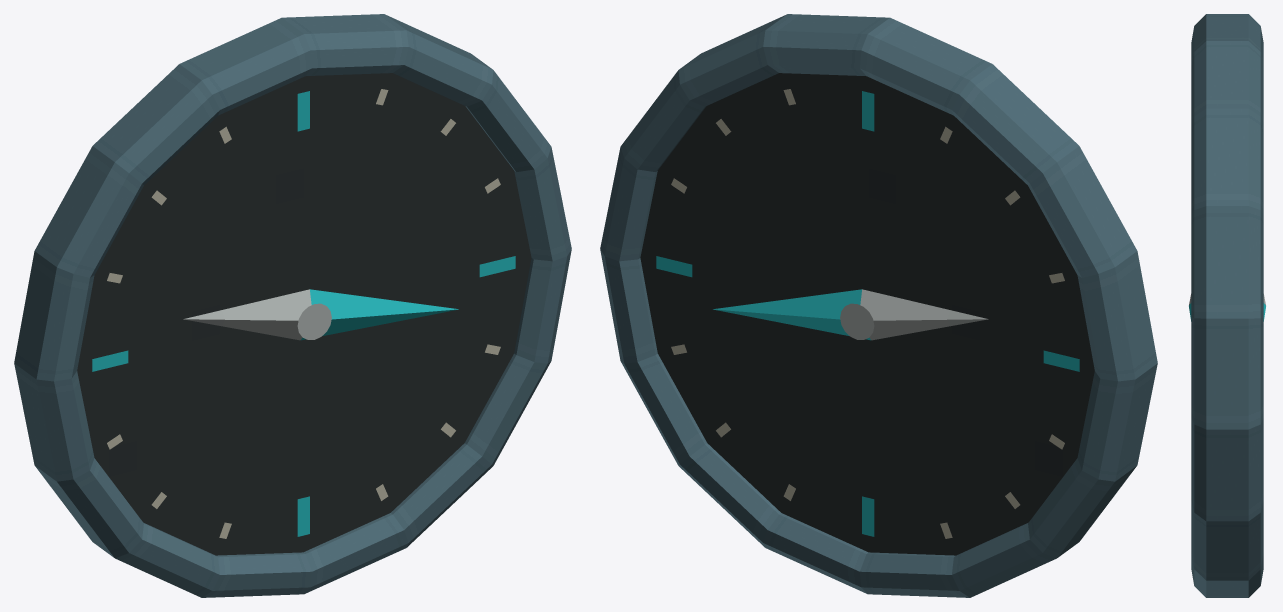
The model's file is recovery_compass_25.obj.
3 renders of one model, left to right at view 1: azimuth 30°, elevation 25°; view 2: azimuth 150°, elevation 25°; view 3: azimuth 270°, elevation 25°, orthographic. The views are drawn at different scales.
Size of the model in its own units: 0.6037 by 0.6037 by 0.085.
